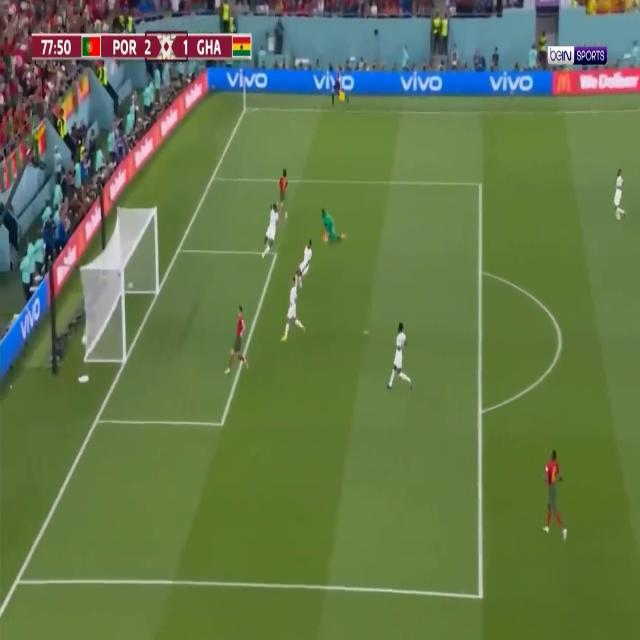Ball: (81, 332, 88, 347)
GoalKeeper: (320, 206, 347, 242)
Referee: (328, 60, 348, 109)
TEAM 1: (543, 450, 570, 542), (225, 305, 250, 377), (275, 167, 292, 220)
TEAM 2: (281, 278, 307, 346), (387, 321, 412, 389), (261, 205, 279, 260), (296, 244, 315, 292), (614, 169, 626, 221)
